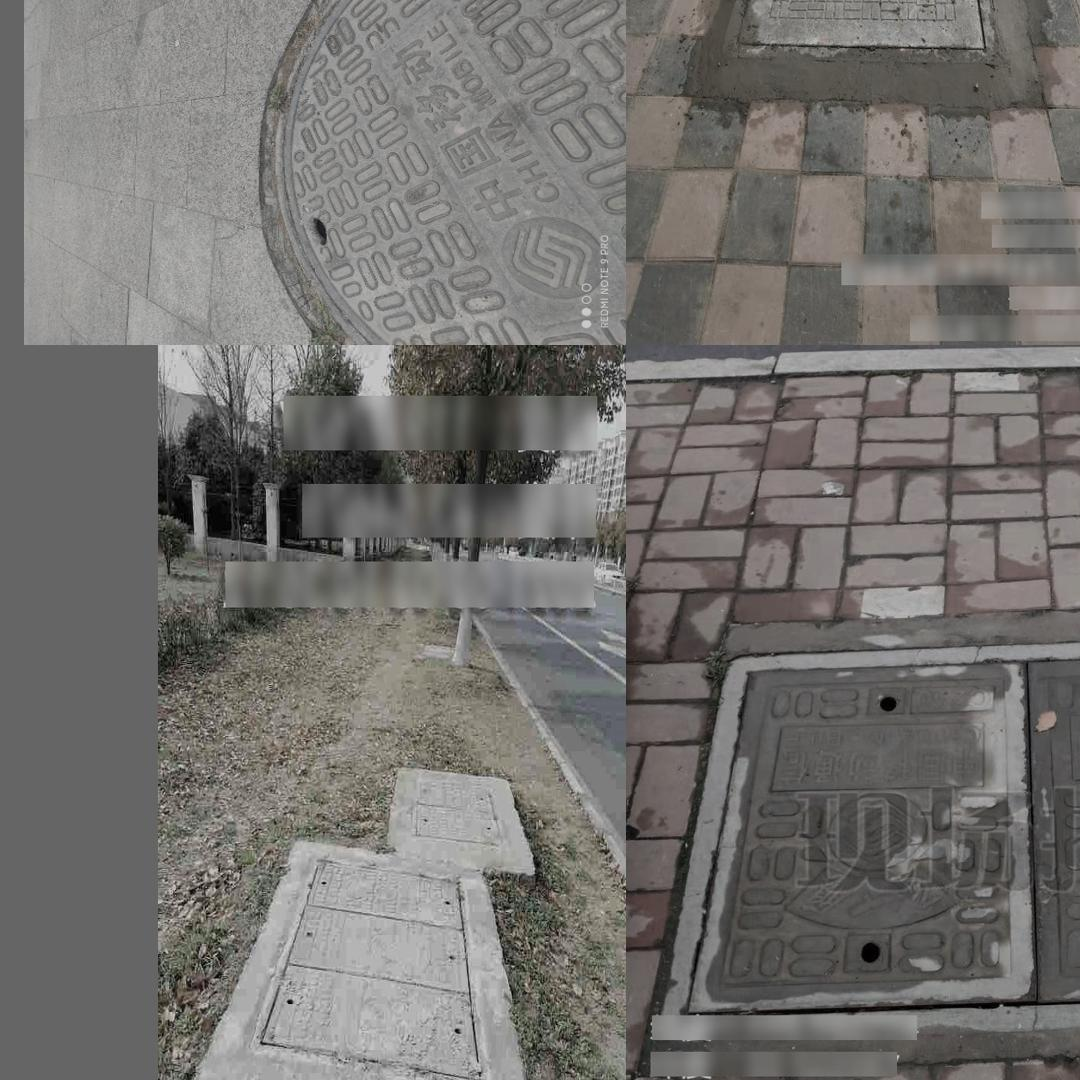good: (656, 632, 1080, 1027), (261, 0, 626, 345), (248, 855, 486, 1080), (721, 0, 1004, 61), (409, 769, 510, 849)
